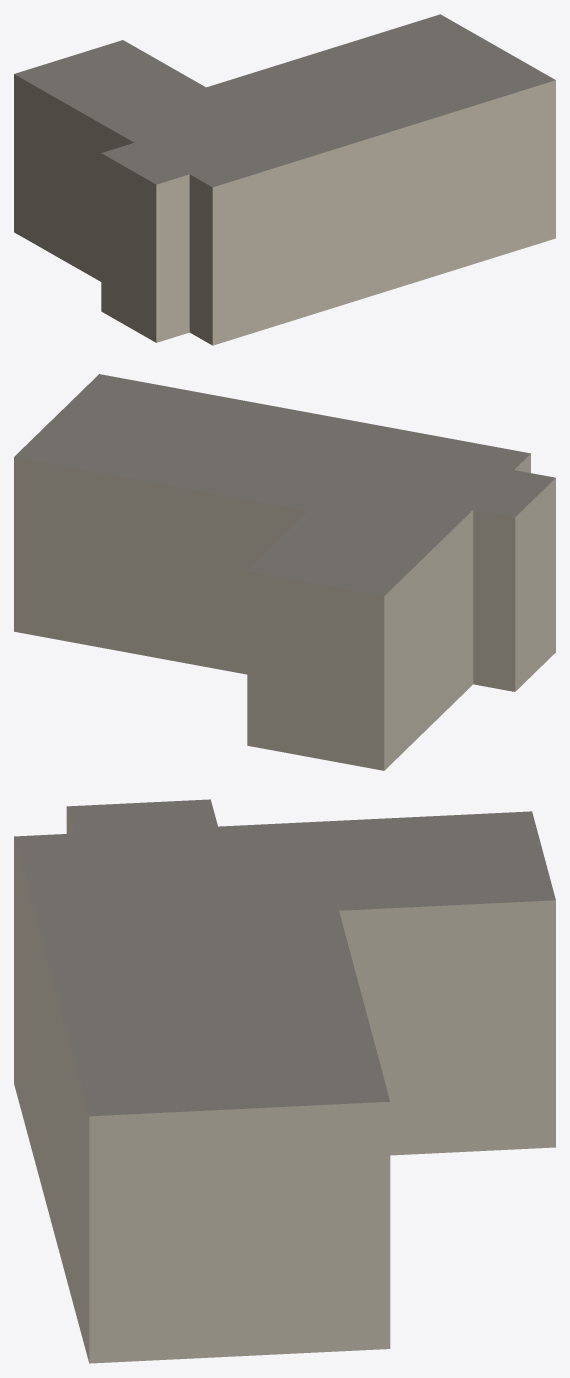
3 views of the same model, one above another, from view 1: azimuth 30°, elevation 25°; view 2: azimuth 150°, elevation 25°; view 3: azimuth 270°, elevation 25° (orthographic). The views are drawn at different scales.
Parts seen in each view (by area): view 1: HP-w859424128; view 2: HP-w859424128; view 3: HP-w859424128.
Part boxes in pixels (x1,y1,x2,y2): HP-w859424128: (14, 14, 555, 345); HP-w859424128: (14, 374, 555, 770); HP-w859424128: (14, 799, 555, 1363).
Bounding box in the file's own units: 49.49 × 18 × 35.77.
